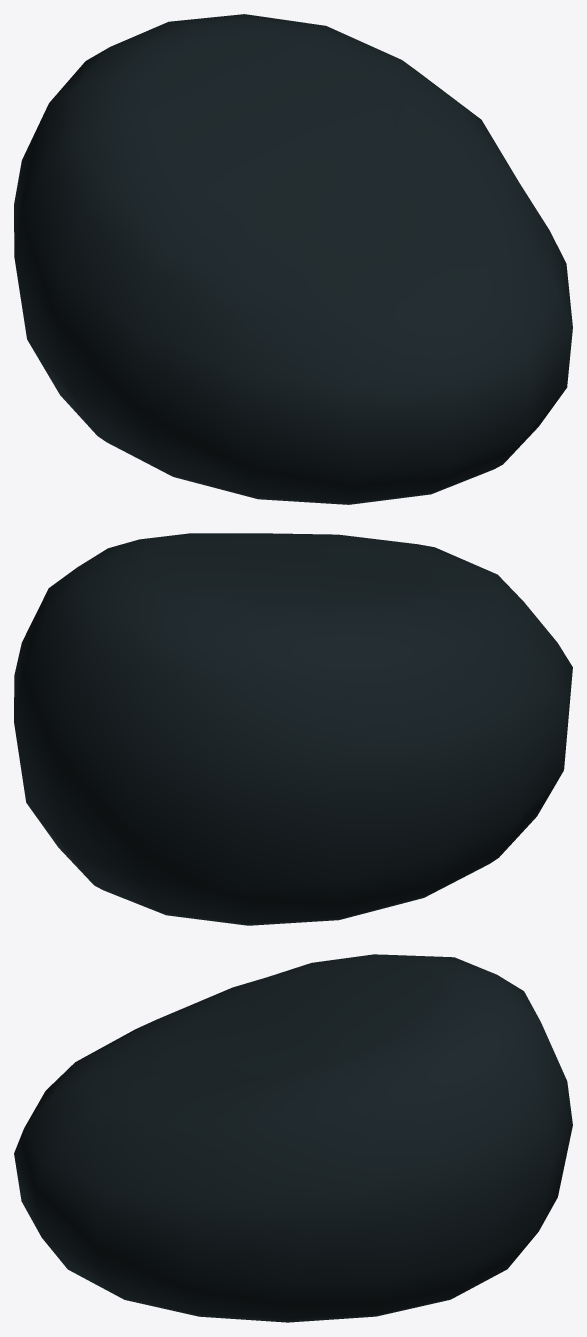
File: Stone03.fbx
The picture shows the model from 3 angles, top to bottom: view 1: azimuth 30°, elevation 25°; view 2: azimuth 150°, elevation 25°; view 3: azimuth 270°, elevation 25°; orthographic projection. The views are drawn at different scales.
Parts seen in each view (by area): view 1: Stone03; view 2: Stone03; view 3: Stone03.
Boxes of the visible parts, <box> form: Stone03: <box>14,14,572,504</box>; Stone03: <box>14,533,572,925</box>; Stone03: <box>14,954,572,1322</box>.
Size of the model in its own units: 124 by 76.43 by 149.
